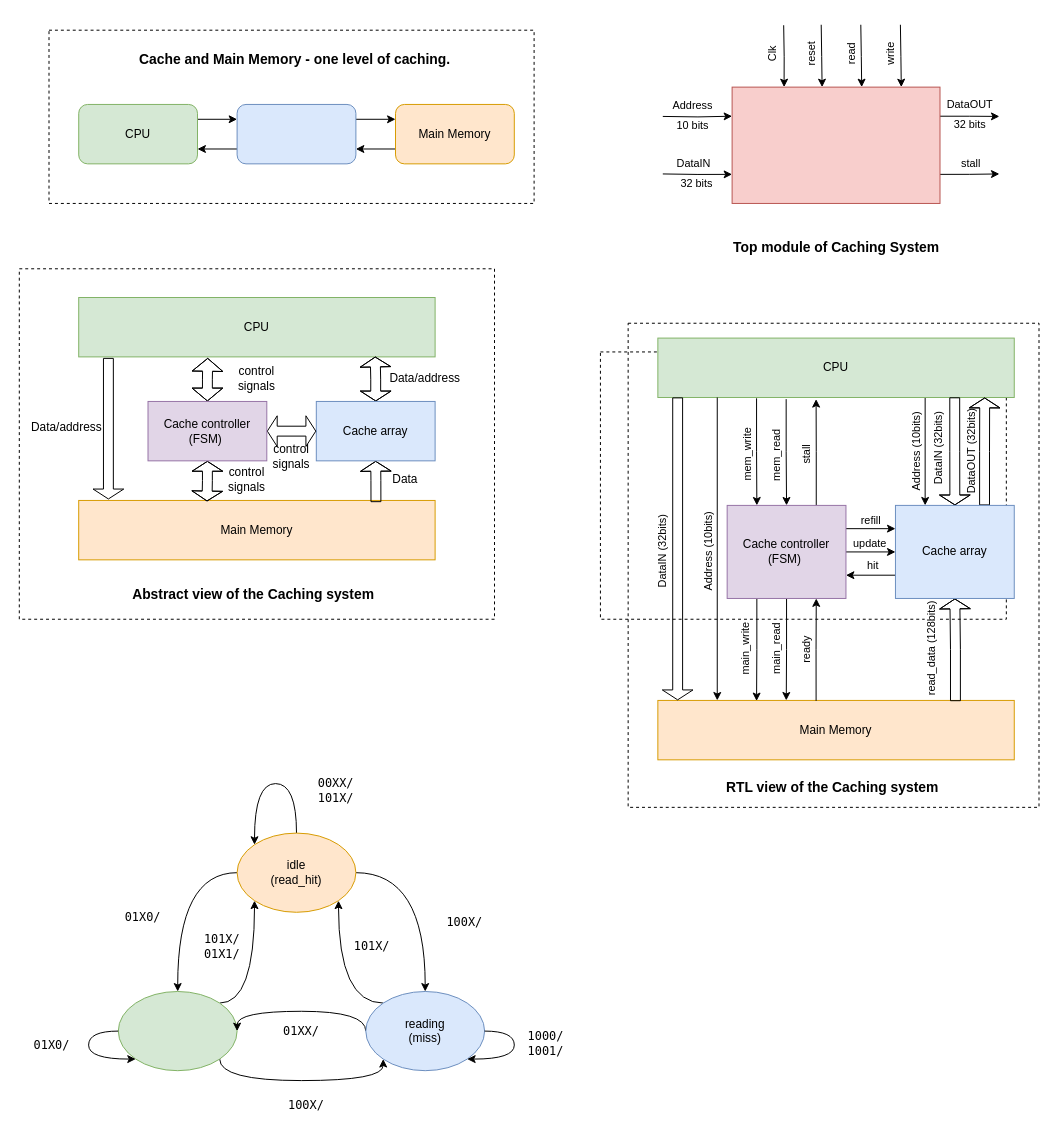
Some shapes in this 1056 by 1137 pixel diagram are drawn without their labels. Here are the shapes that lost their labels. From the top down, the centre of each, then its label:
At (296,133): "Cache".
At (835,144): "Caching system".
At (177,1030): "writing (hit/miss)".
